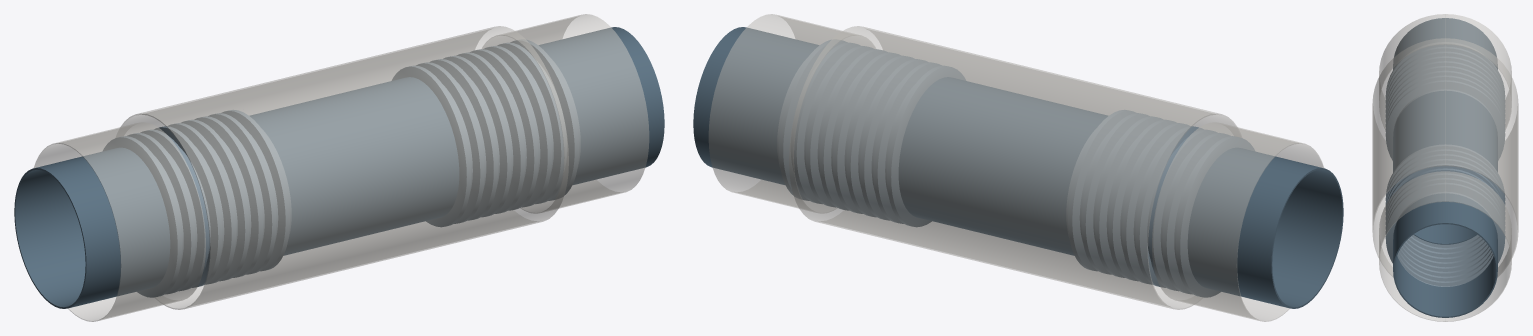
The model's file is 2ppu-dn600-L2914-D630-k-o878.glb.
3 views of the same model, side by side, from view 1: azimuth 30°, elevation 25°; view 2: azimuth 150°, elevation 25°; view 3: azimuth 270°, elevation 25° (orthographic). The views are drawn at different scales.
Parts seen in each view (by area): view 1: uslovno_kozhuh_ppu, prokladka_silfon_1, prokladka_silfon_2, patrubok_1, uslovno_obolochka_l, uslovno_obolochka_r, patrubok_3, patrubok_4, patrubok_2; view 2: uslovno_kozhuh_ppu, prokladka_silfon_1, prokladka_silfon_2, patrubok_1, uslovno_obolochka_l, uslovno_obolochka_r, patrubok_3, patrubok_4, patrubok_2; view 3: uslovno_kozhuh_ppu, prokladka_silfon_2, patrubok_4, prokladka_silfon_1, uslovno_obolochka_r, uslovno_obolochka_l, patrubok_3, patrubok_2, patrubok_1.
Part boxes in pixels (bbox=[...]): uslovno_kozhuh_ppu: bbox=[120, 26, 568, 309]; prokladka_silfon_1: bbox=[103, 110, 291, 297]; prokladka_silfon_2: bbox=[392, 39, 580, 227]; patrubok_1: bbox=[14, 147, 170, 308]; uslovno_obolochka_l: bbox=[34, 122, 205, 321]; uslovno_obolochka_r: bbox=[482, 14, 649, 213]; patrubok_3: bbox=[324, 77, 459, 237]; patrubok_4: bbox=[539, 27, 664, 184]; patrubok_2: bbox=[250, 97, 375, 255]; uslovno_kozhuh_ppu: bbox=[789, 26, 1237, 309]; prokladka_silfon_1: bbox=[1066, 110, 1254, 297]; prokladka_silfon_2: bbox=[777, 39, 965, 227]; patrubok_1: bbox=[1187, 147, 1343, 308]; uslovno_obolochka_l: bbox=[1152, 122, 1323, 321]; uslovno_obolochka_r: bbox=[708, 14, 875, 213]; patrubok_3: bbox=[898, 77, 1033, 237]; patrubok_4: bbox=[693, 27, 818, 184]; patrubok_2: bbox=[982, 97, 1107, 255]; uslovno_kozhuh_ppu: bbox=[1372, 38, 1518, 276]; prokladka_silfon_2: bbox=[1385, 144, 1505, 286]; patrubok_4: bbox=[1393, 193, 1497, 317]; prokladka_silfon_1: bbox=[1385, 42, 1505, 160]; uslovno_obolochka_r: bbox=[1379, 171, 1511, 321]; uslovno_obolochka_l: bbox=[1379, 14, 1511, 128]; patrubok_3: bbox=[1393, 120, 1497, 244]; patrubok_2: bbox=[1393, 90, 1497, 165]; patrubok_1: bbox=[1393, 18, 1497, 69].
Size of the model in its own units: 2914 by 878 by 878.
